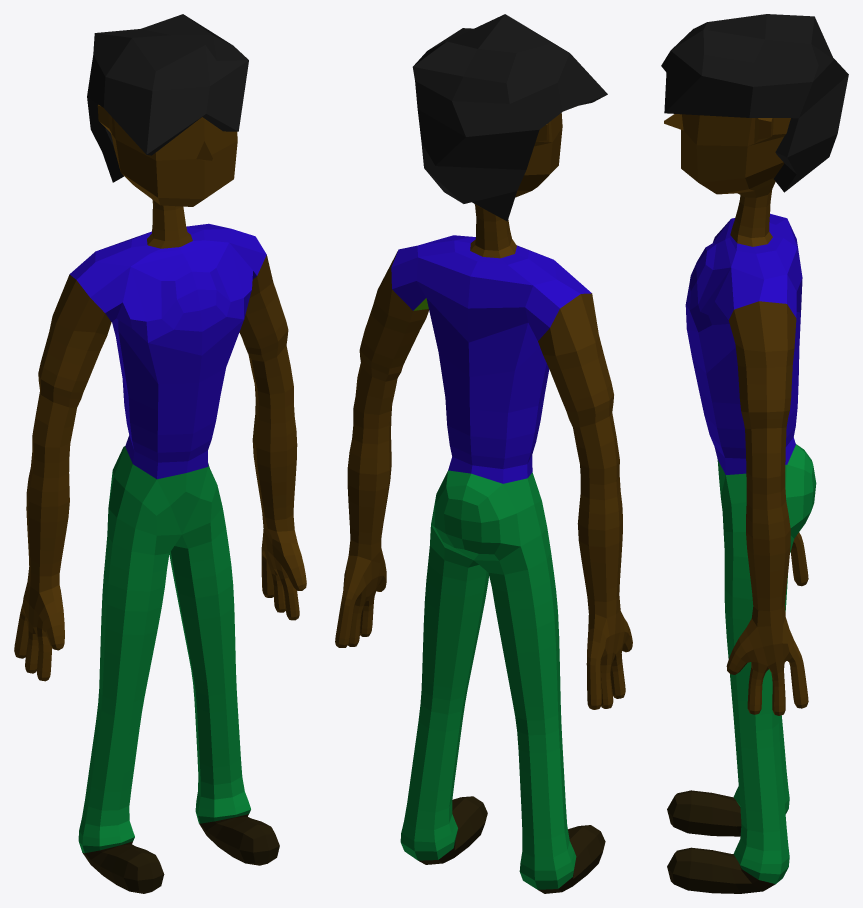
The model's file is npc3.fbx.
3 renders of one model, left to right at view 1: azimuth 30°, elevation 25°; view 2: azimuth 150°, elevation 25°; view 3: azimuth 270°, elevation 25°, orthographic.
Parts seen in each view (by area): view 1: npc3; view 2: npc3; view 3: npc3.
Boxes of the visible parts, x1,y1,x2,y2 form: npc3: (14, 14, 306, 893); npc3: (335, 14, 632, 893); npc3: (661, 14, 848, 893).
Size of the model in its own units: 106 by 318 by 64.41.
